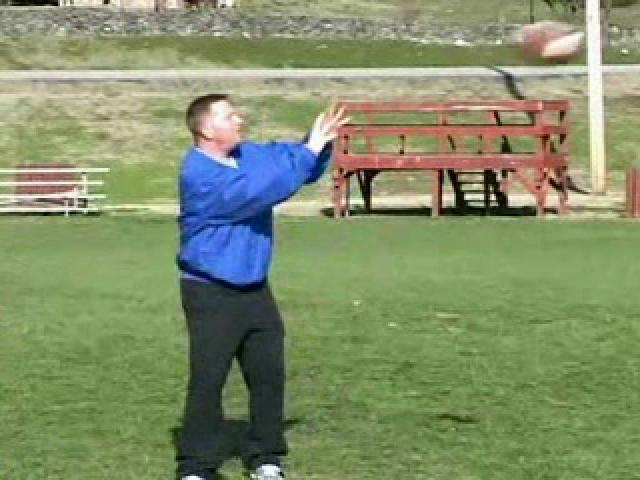I: (164, 81, 356, 480)
